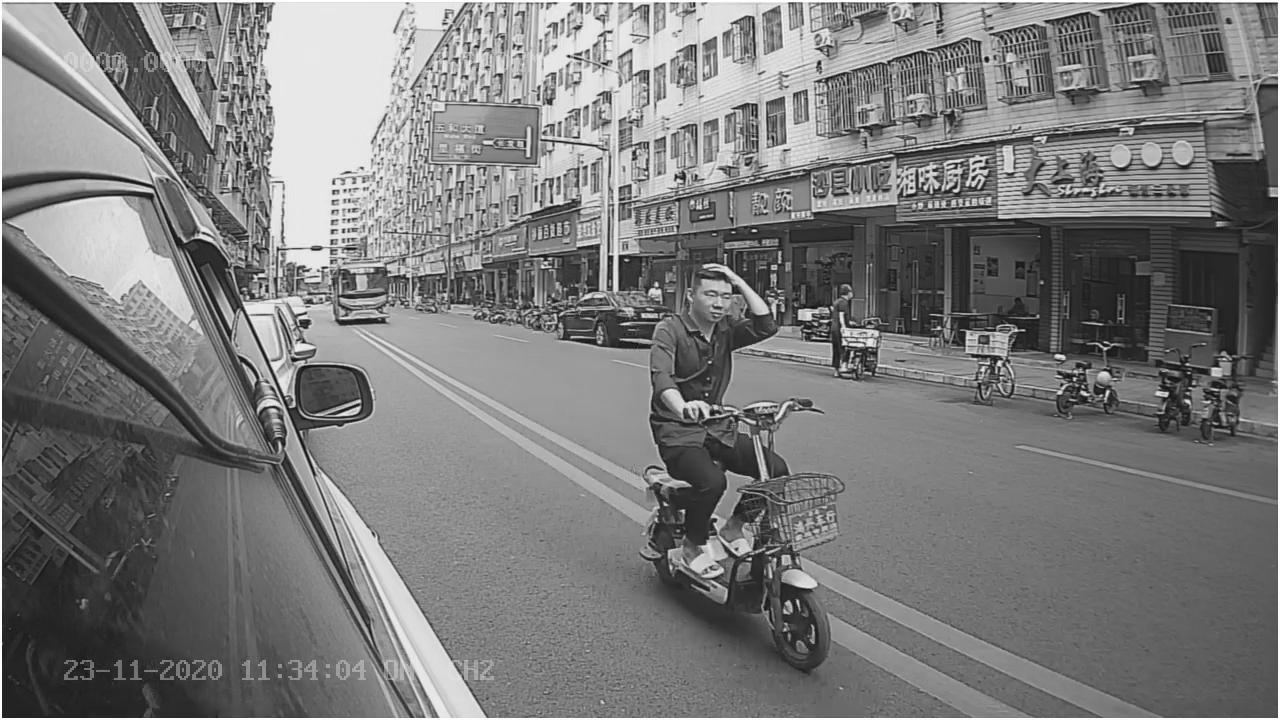person: (645, 254, 778, 418)
